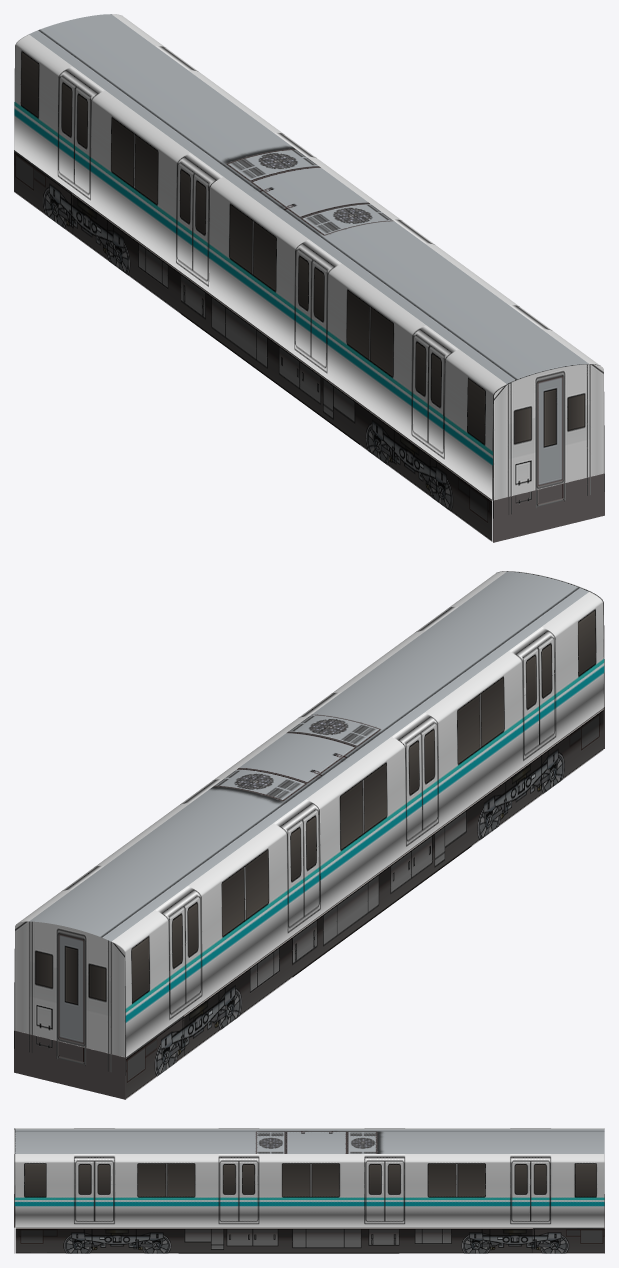
Rendered from car5.glb.
The picture shows the model from 3 angles, top to bottom: view 1: azimuth 30°, elevation 25°; view 2: azimuth 150°, elevation 25°; view 3: azimuth 270°, elevation 25°; orthographic projection. The views are drawn at different scales.
Visible parts, largest first — view 1: tokyometro-9000-car5; view 2: tokyometro-9000-car5; view 3: tokyometro-9000-car5.
Part boxes in pixels (left/top/right/bottom): tokyometro-9000-car5: left=14, top=14, right=604, bottom=542; tokyometro-9000-car5: left=14, top=571, right=604, bottom=1099; tokyometro-9000-car5: left=14, top=1128, right=604, bottom=1253.
Bounding box in the file's own units: 2.78 × 3.77 × 20.69.
8 materials, 7 textured.
